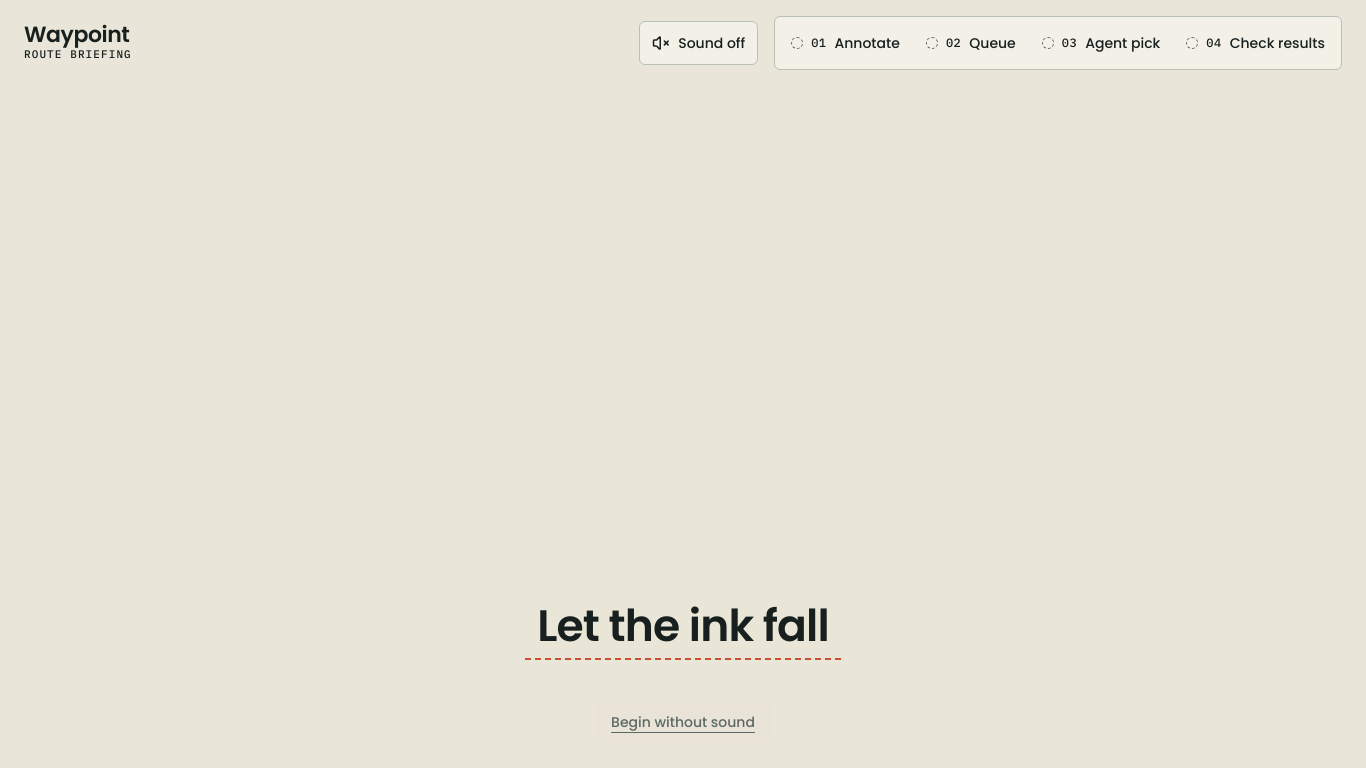
OpenDesign ink map journey › Let the ink fall entrance › begins silently with Begin without sound
Click the button "Begin without sound" at [683, 722], box x1=595 y1=700 x2=771 y2=744
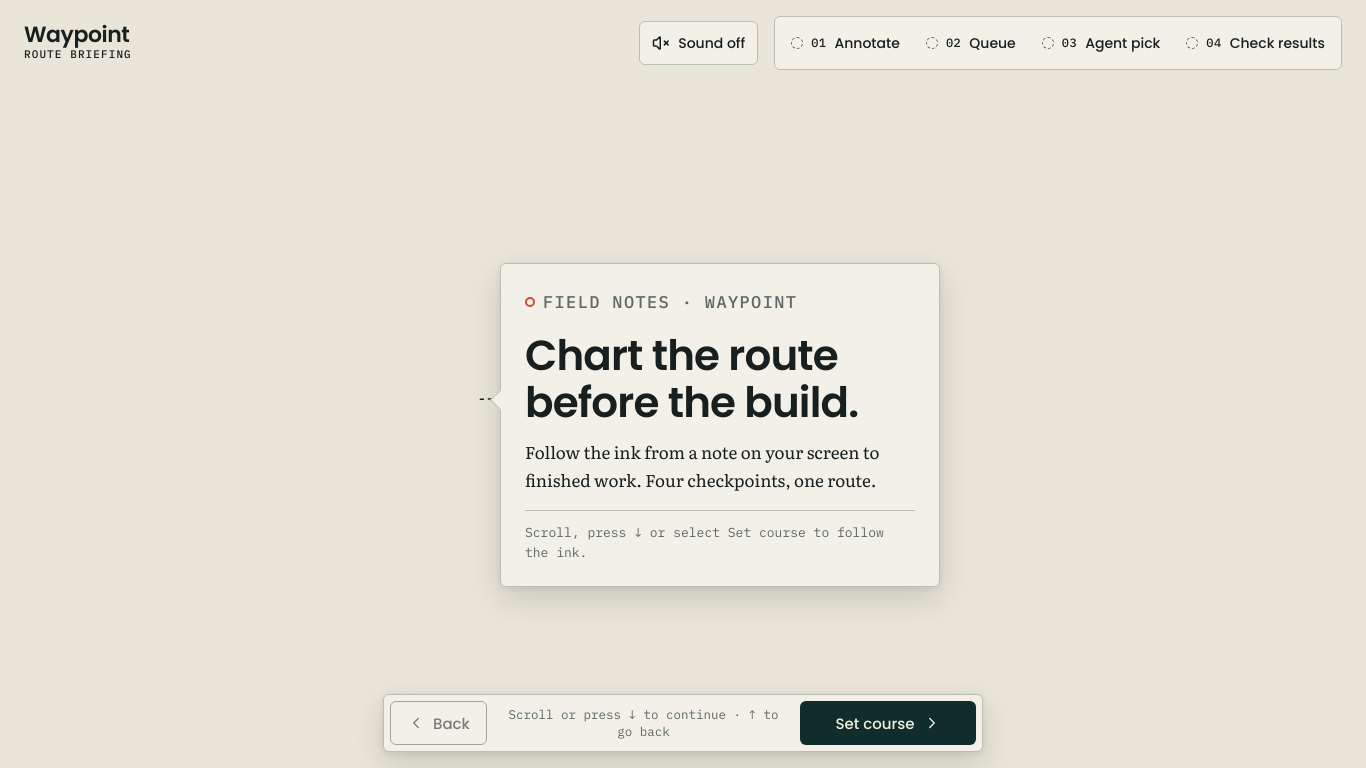
Expected: the button "Sound off" is shown, x1=639 y1=21 x2=758 y2=65
Result: the button "Let the ink fall" is gone
Result: the heading "Chart the route before the build." is shown at x1=525 y1=332 x2=915 y2=426
